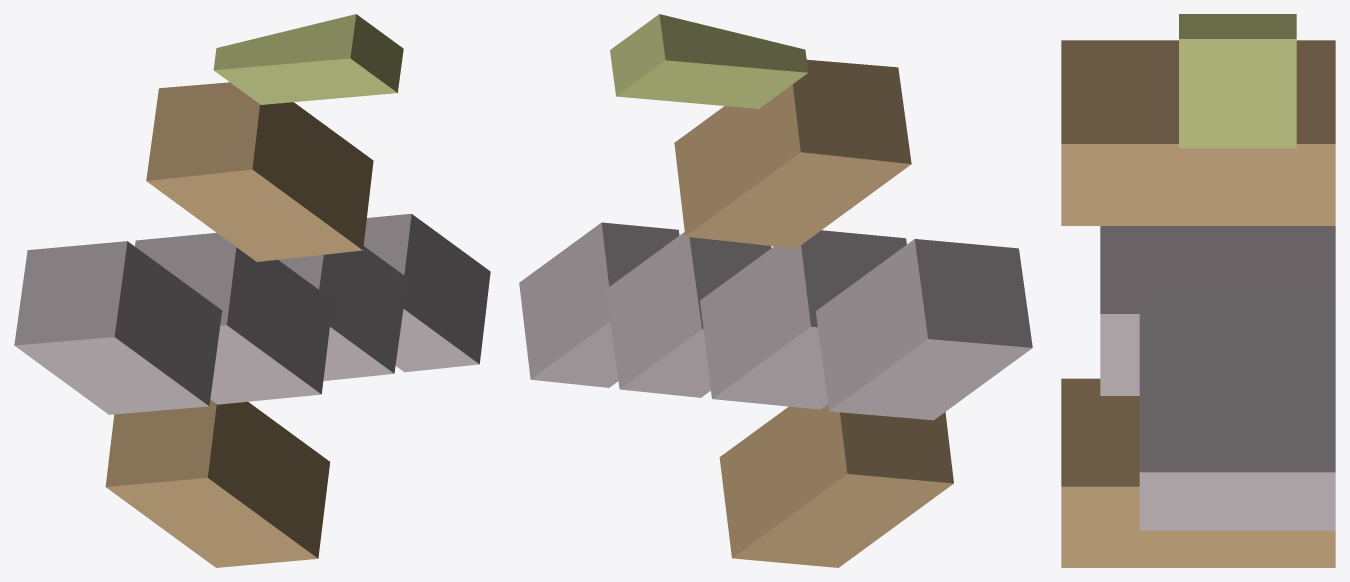
3 views of the same model, side by side, from view 1: azimuth 30°, elevation 25°; view 2: azimuth 150°, elevation 25°; view 3: azimuth 270°, elevation 25° (orthographic). The views are drawn at different scales.
Visible parts, largest first — view 1: 0_0_3_2_0_0_1_0_1; view 2: 0_0_3_2_0_0_1_0_1; view 3: 0_0_3_2_0_0_1_0_1.
Boxes of the visible parts, bbox=[...] form: 0_0_3_2_0_0_1_0_1: bbox=[14, 14, 490, 567]; 0_0_3_2_0_0_1_0_1: bbox=[519, 14, 1032, 567]; 0_0_3_2_0_0_1_0_1: bbox=[1061, 14, 1335, 567].
Bounding box in the file's own units: 43.56 × 46.4 × 21.
